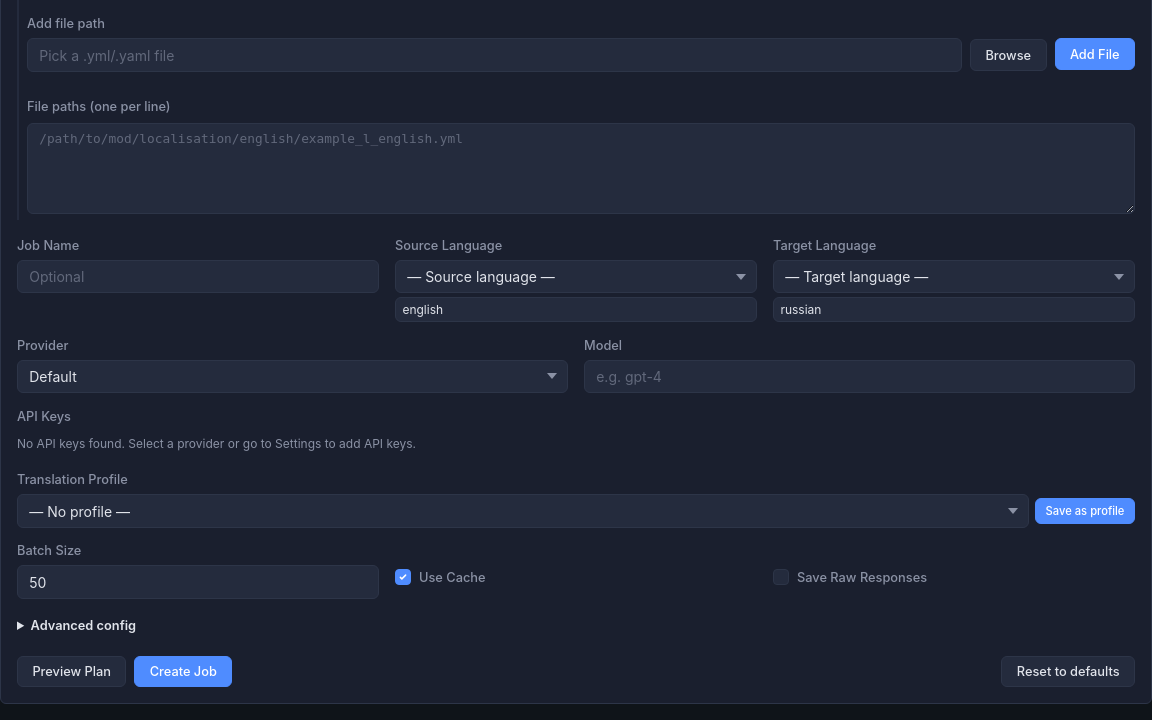
it: CreateJobForm › advanced config section › renders prompt profile dropdown with options
(page scrolled)
# Open the details
Click the heading "Advanced config": (83, 626) [30,618,136,633]
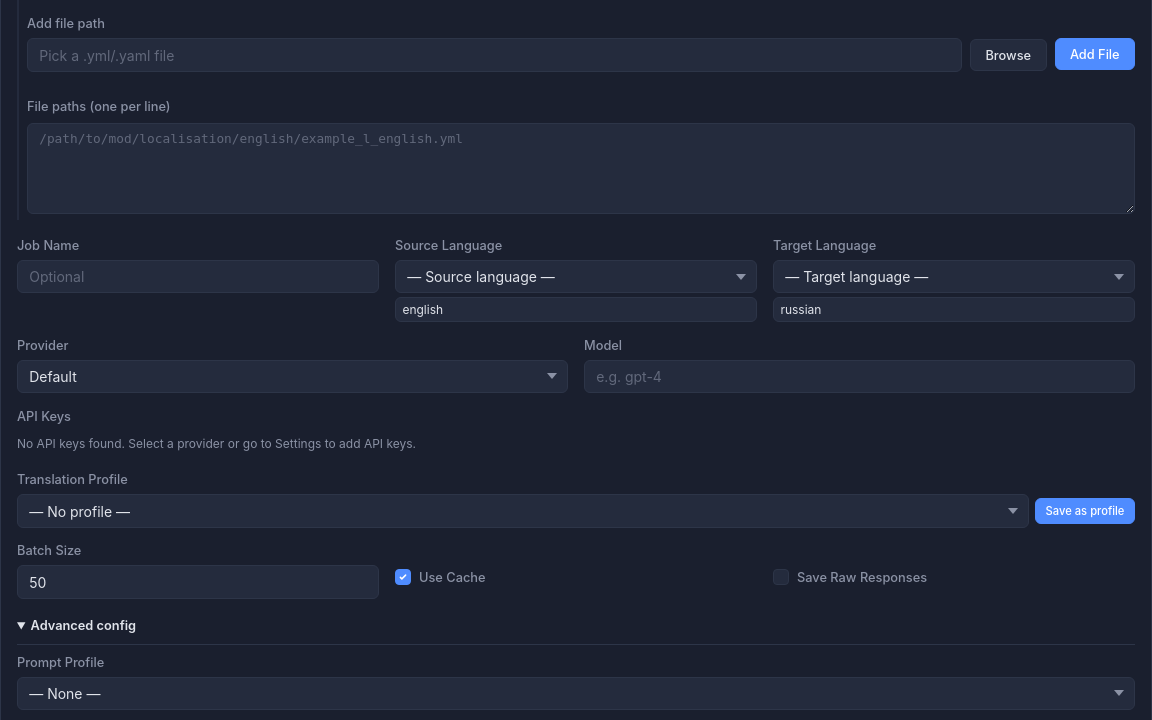
Expected: the dropdown below "Prompt Profile" is shown, [17,676,1135,710]
